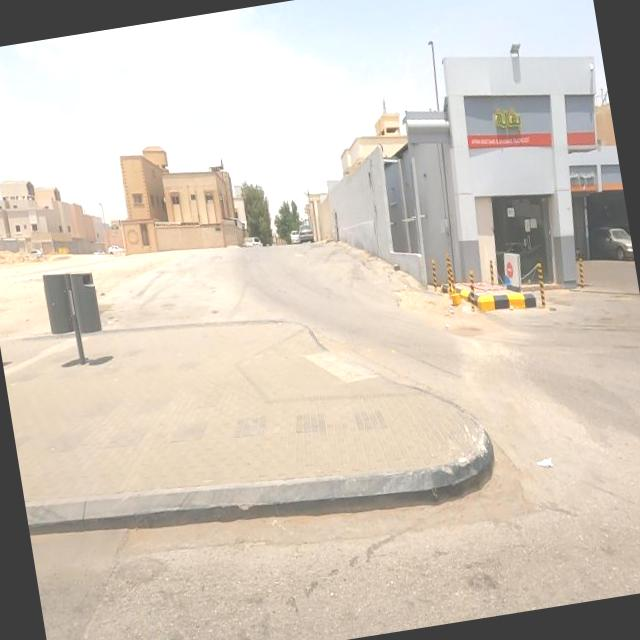debris: (502, 412, 582, 514)
